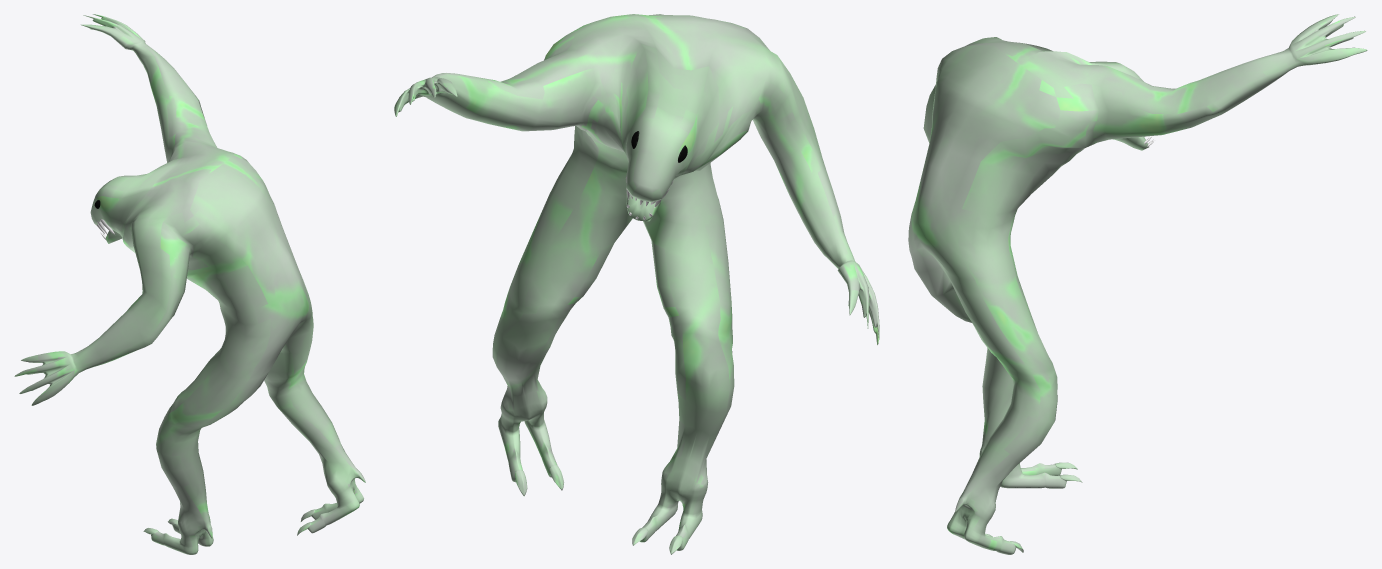
Rendered from Berserkeraranar.0034.obj.
3 views of the same model, side by side, from view 1: azimuth 30°, elevation 25°; view 2: azimuth 150°, elevation 25°; view 3: azimuth 270°, elevation 25° (orthographic). The views are drawn at different scales.
Parts seen in each view (by area): view 1: polySurface27; view 2: polySurface27; view 3: polySurface27.
Part boxes in pixels (bbox=[...]): polySurface27: bbox=[14, 14, 365, 554]; polySurface27: bbox=[394, 14, 879, 554]; polySurface27: bbox=[908, 14, 1367, 554].
Size of the model in its own units: 17.78 by 22.85 by 19.24.
1 material, 1 textured.
